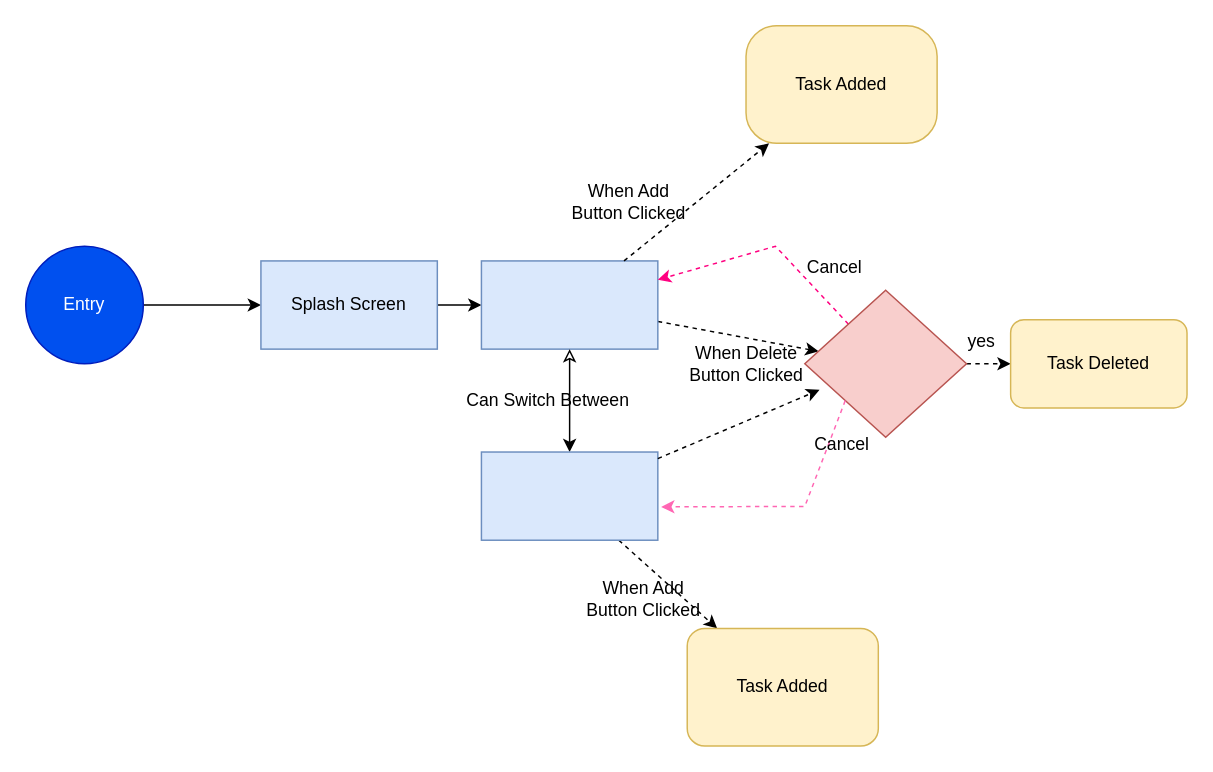
Image size: 1213x772. Some labels were removed from this diagram. The shapes that lost their labels are listed below. From the top down, each one's box as (x1, y1, x2, y2) in pixels, then its label:
(480, 259, 658, 349): Currently Pending Tasks
(803, 289, 967, 437): Dialog Box to Delete
(480, 451, 658, 540): Complete Task
